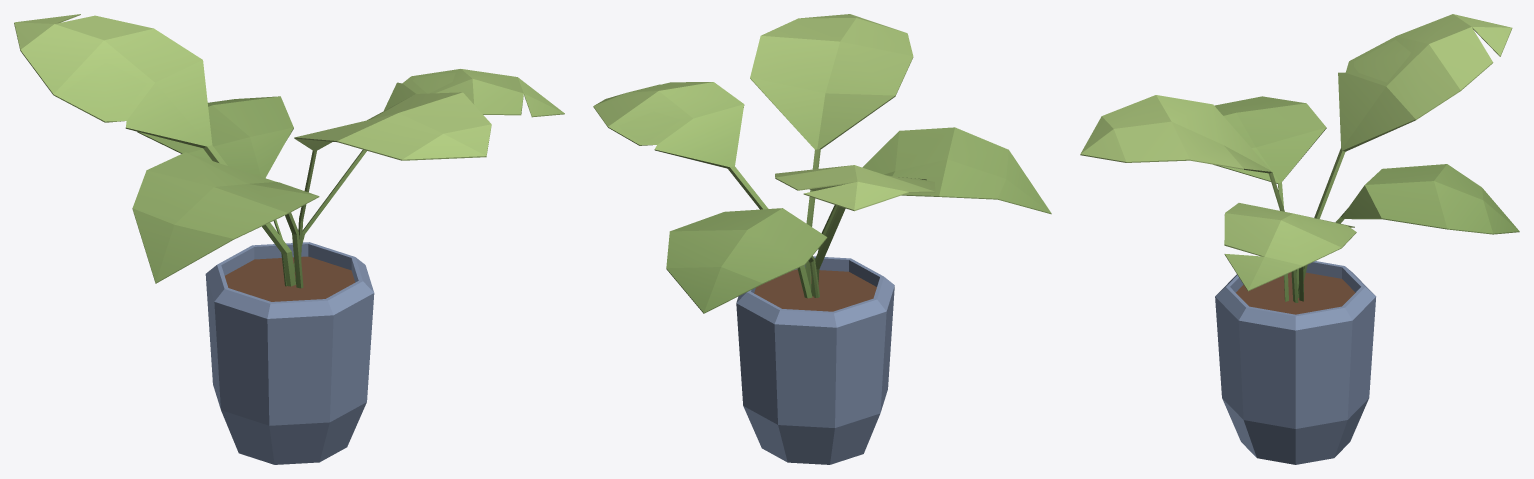
File: Plant_08.fbx
3 renders of one model, left to right at view 1: azimuth 30°, elevation 25°; view 2: azimuth 150°, elevation 25°; view 3: azimuth 270°, elevation 25°, orthographic. The views are drawn at different scales.
Visible parts, largest first — view 1: Plant_08; view 2: Plant_08; view 3: Plant_08.
Boxes of the visible parts, x1,y1,x2,y2 form: Plant_08: [14, 14, 564, 464]; Plant_08: [593, 14, 1051, 464]; Plant_08: [1080, 14, 1519, 464].
Bounding box in the file's own units: 116 × 95.62 × 108.
